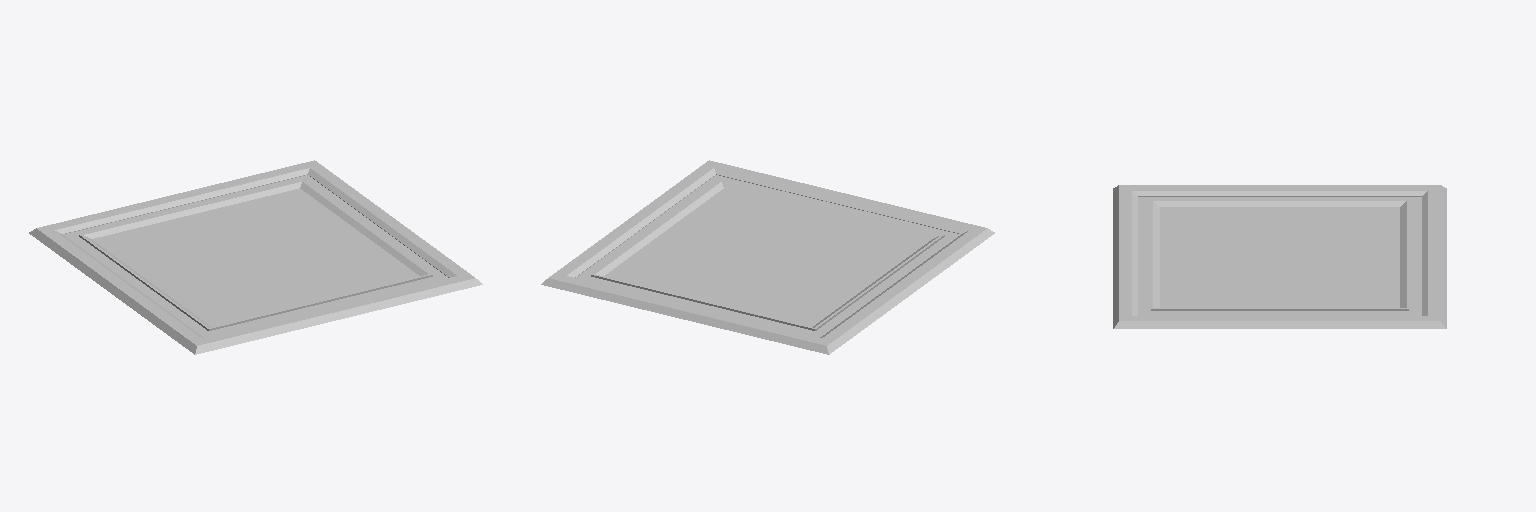
File: PictureFram_Square01.obj
The picture shows the model from 3 angles: view 1: azimuth 30°, elevation 25°; view 2: azimuth 150°, elevation 25°; view 3: azimuth 270°, elevation 25°; orthographic projection.
Parts seen in each view (by area): view 1: Mesh_Picture_Frame_Square01; view 2: Mesh_Picture_Frame_Square01; view 3: Mesh_Picture_Frame_Square01.
Part boxes in pixels (x1,y1,x2,y2): Mesh_Picture_Frame_Square01: (29,160,482,354); Mesh_Picture_Frame_Square01: (541,160,994,354); Mesh_Picture_Frame_Square01: (1113,185,1446,328).
Size of the model in its own units: 2.43 by 0.0463 by 2.43.